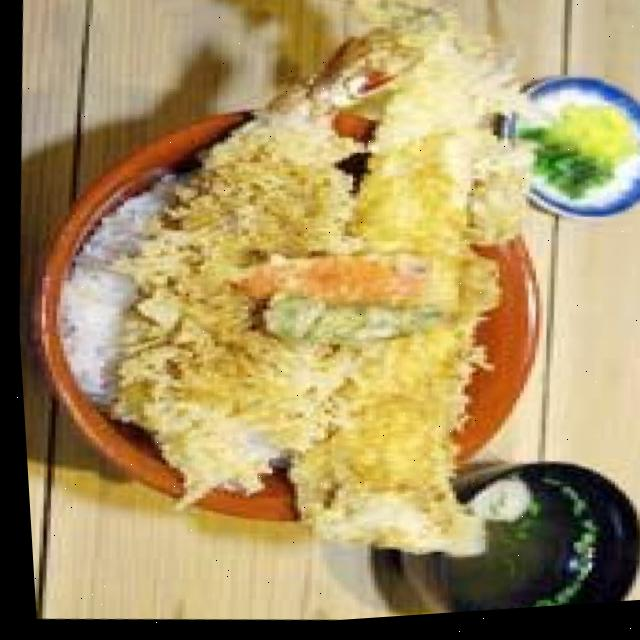汤锅炖物: (387, 457, 640, 621)
熟制海鲜: (3, 32, 581, 599)
